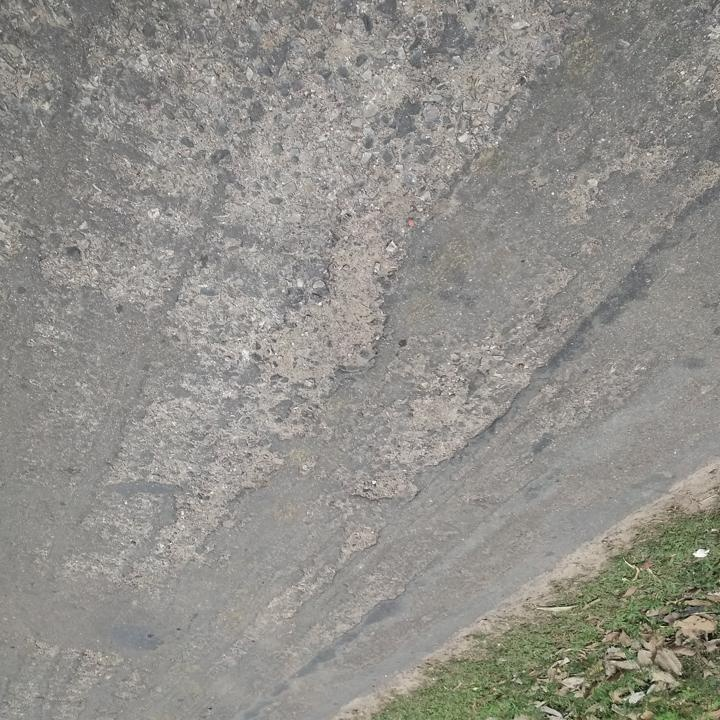pothole: (343, 360, 527, 509), (258, 234, 401, 398)
